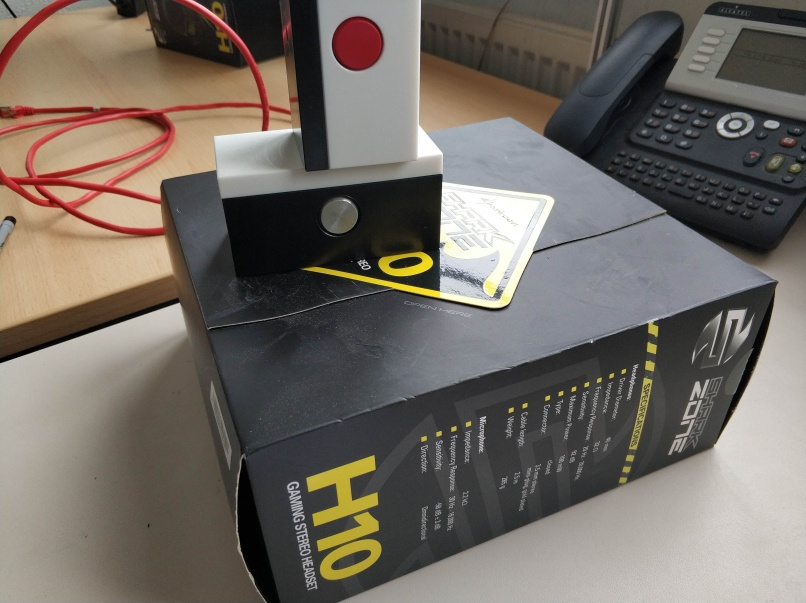black+white+red: (276, 1, 422, 173)
white+black+silver: (211, 124, 448, 279)
